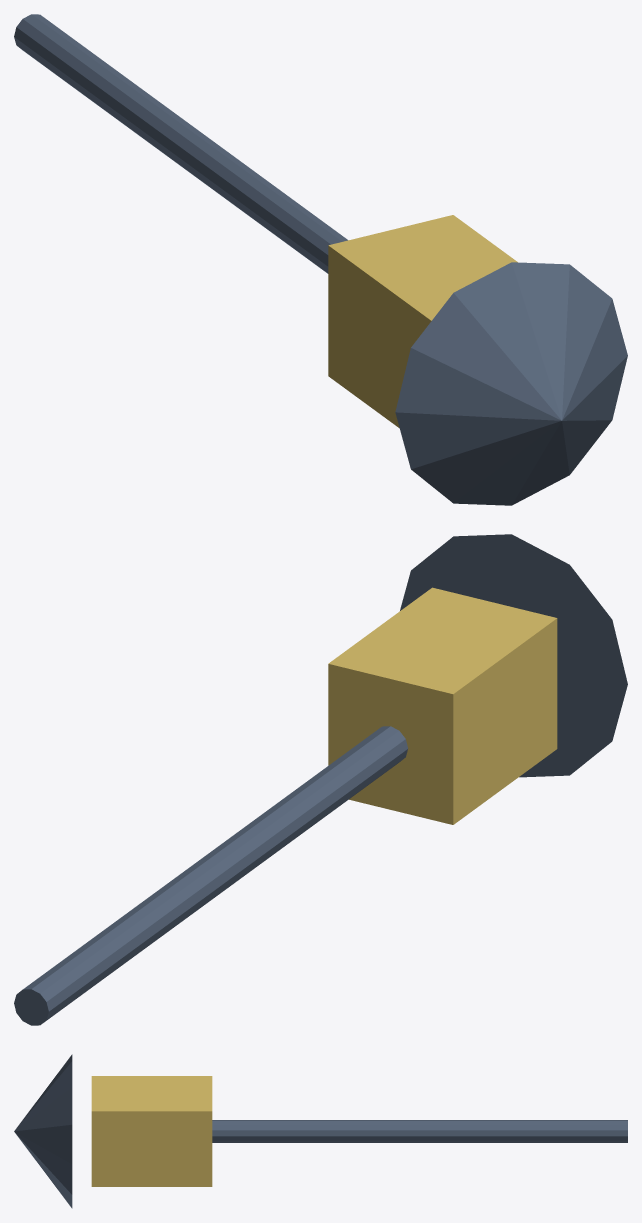
File: street_lamp.glb
The picture shows the model from 3 angles, top to bottom: view 1: azimuth 30°, elevation 25°; view 2: azimuth 150°, elevation 25°; view 3: azimuth 270°, elevation 25°; orthographic projection. The views are drawn at different scales.
Parts seen in each view (by area): view 1: cap_2, lamp_1, pole_0; view 2: lamp_1, cap_2, pole_0; view 3: lamp_1, pole_0, cap_2.
Boxes of the visible parts, x1,y1,x2,y2 form: cap_2: (395, 262, 627, 505); lamp_1: (328, 215, 517, 427); pole_0: (14, 14, 347, 273); lamp_1: (328, 587, 557, 824); cap_2: (400, 534, 627, 777); pole_0: (14, 726, 408, 1025); lamp_1: (91, 1076, 212, 1186); pole_0: (212, 1120, 627, 1142); cap_2: (14, 1054, 72, 1208).
Bounding box in the file's own units: 0.8 × 0.8 × 3.16.
